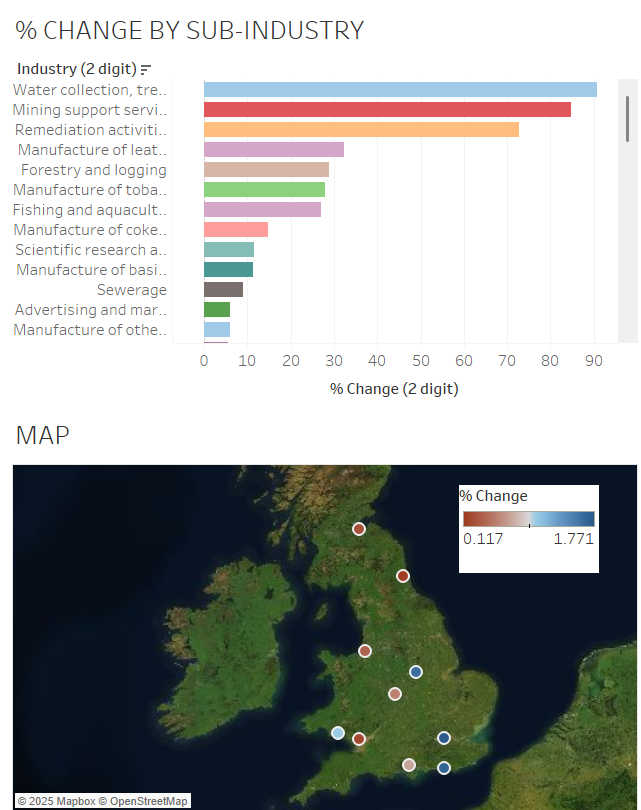

Layout of this report page (visuals, bound fields, positions):
{"tool":"tableau","page":{"name":"% CHANGE DASHBOARD","canvas":[650,860],"ordinal":0},"visuals":[{"type":"worksheet","title":"% CHANGE BY SUB-INDUSTRY","mark":"Automatic","rows":["Industry (2 digit)"],"cols":["Calculation_1825365240806551552"],"box":[8,8,634,422]},{"type":"worksheet","title":"MAP","mark":"Automatic","box":[8,430,634,422]},{"type":"legend","title":"MAP","param":"[federated.0exhsvp00uelkv1bso6nr15d4f7f].[sum:% Change:qk]","box":[459,508.1,140,91.6]}]}

Visuals, with their boxes on the page's 650x860 design canvas (x1, y1, x2, y2). These are canvas units, not pixel positions in the 641x810 screenshot, which may show the page scaled, cropped or inside an application window:
"% CHANGE BY SUB-INDUSTRY" worksheet: <region>8, 8, 642, 430</region>
"MAP" worksheet: <region>8, 430, 642, 852</region>
"MAP" legend: <region>459, 508, 599, 600</region>
